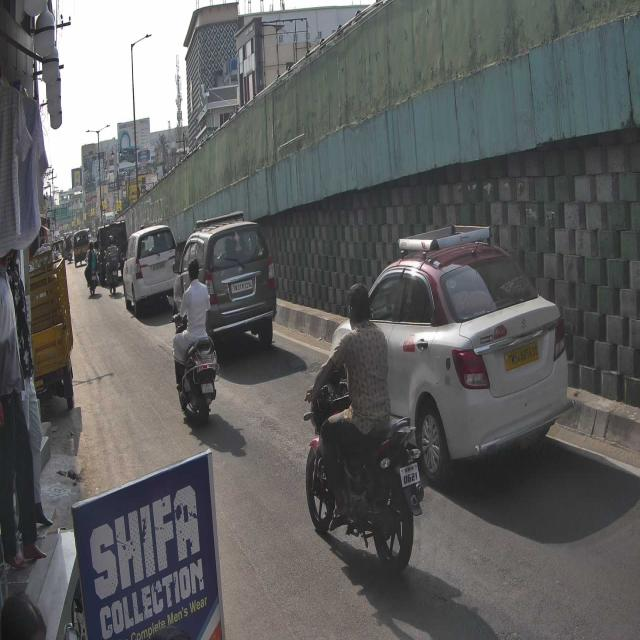single_rider: (303, 281, 424, 580), (168, 260, 220, 423)
